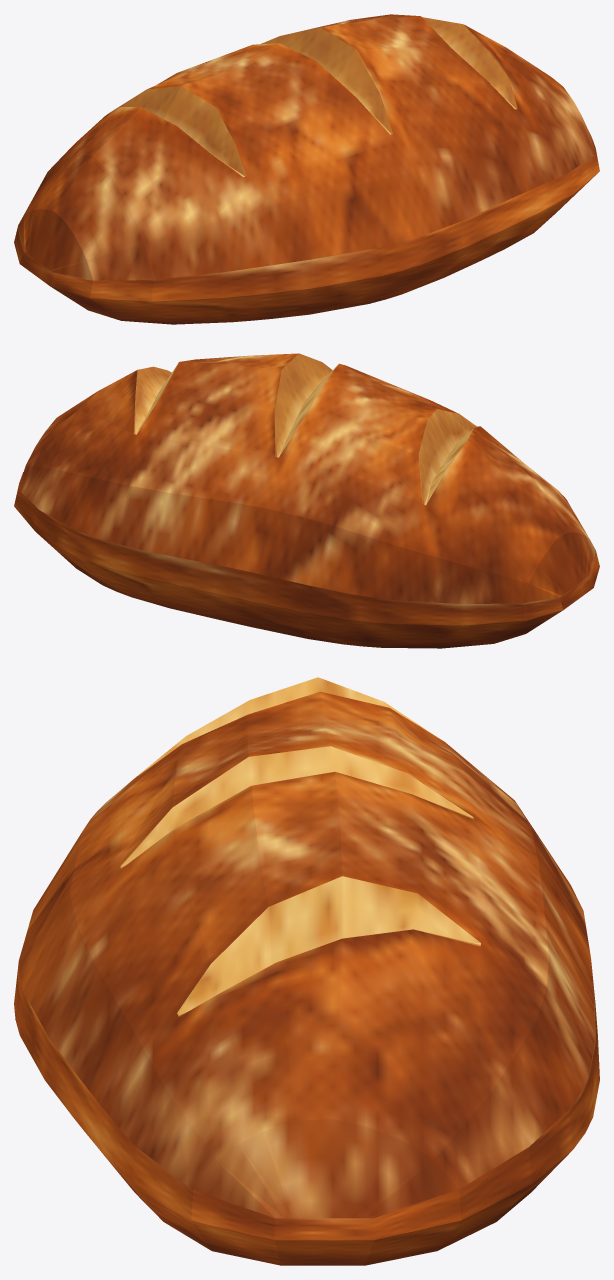
The model's file is Pao.glb.
The picture shows the model from 3 angles, top to bottom: view 1: azimuth 30°, elevation 25°; view 2: azimuth 150°, elevation 25°; view 3: azimuth 270°, elevation 25°; orthographic projection. The views are drawn at different scales.
Parts seen in each view (by area): view 1: Crosta superior, Laterais, Cortes; view 2: Crosta superior, Laterais, Cortes; view 3: Crosta superior, Laterais, Cortes.
Boxes of the visible parts, x1,y1,x2,y2 form: Crosta superior: (18, 14, 595, 280); Laterais: (14, 138, 599, 324); Cortes: (105, 17, 517, 176); Crosta superior: (18, 353, 595, 604); Laterais: (14, 475, 599, 648); Cortes: (133, 353, 479, 505); Crosta superior: (18, 691, 595, 1218); Laterais: (14, 962, 599, 1265); Cortes: (120, 677, 480, 1016).
Bounding box in the file's own units: 0.29 × 0.1033 × 0.168.
1 material, 1 textured.
